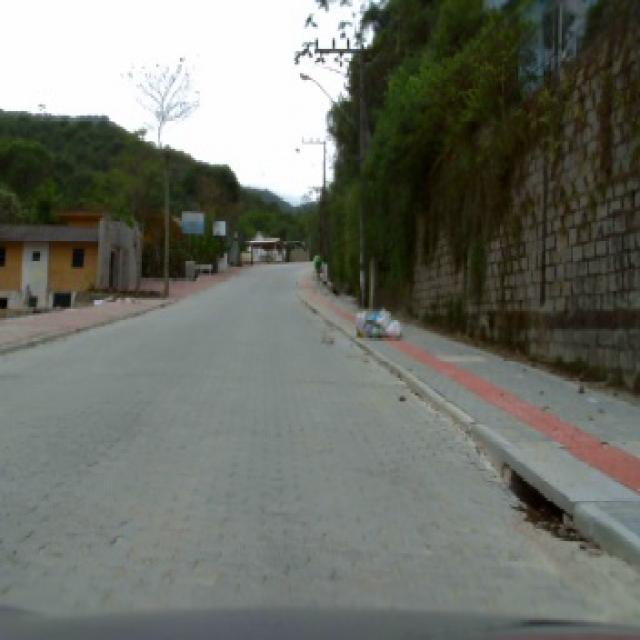Poth-hole: (497, 458, 568, 531)
